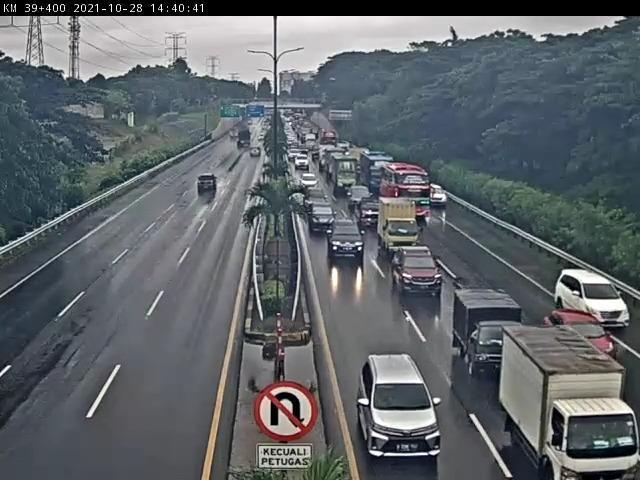bus: (383, 165, 431, 222)
car: (359, 353, 441, 462), (559, 268, 632, 330), (546, 310, 617, 358), (393, 246, 443, 294), (327, 219, 364, 256), (310, 203, 337, 229), (347, 185, 373, 207), (196, 173, 220, 194), (360, 199, 380, 224), (305, 186, 329, 205)
truck: (504, 336, 638, 480), (459, 290, 524, 370), (378, 197, 417, 249)
